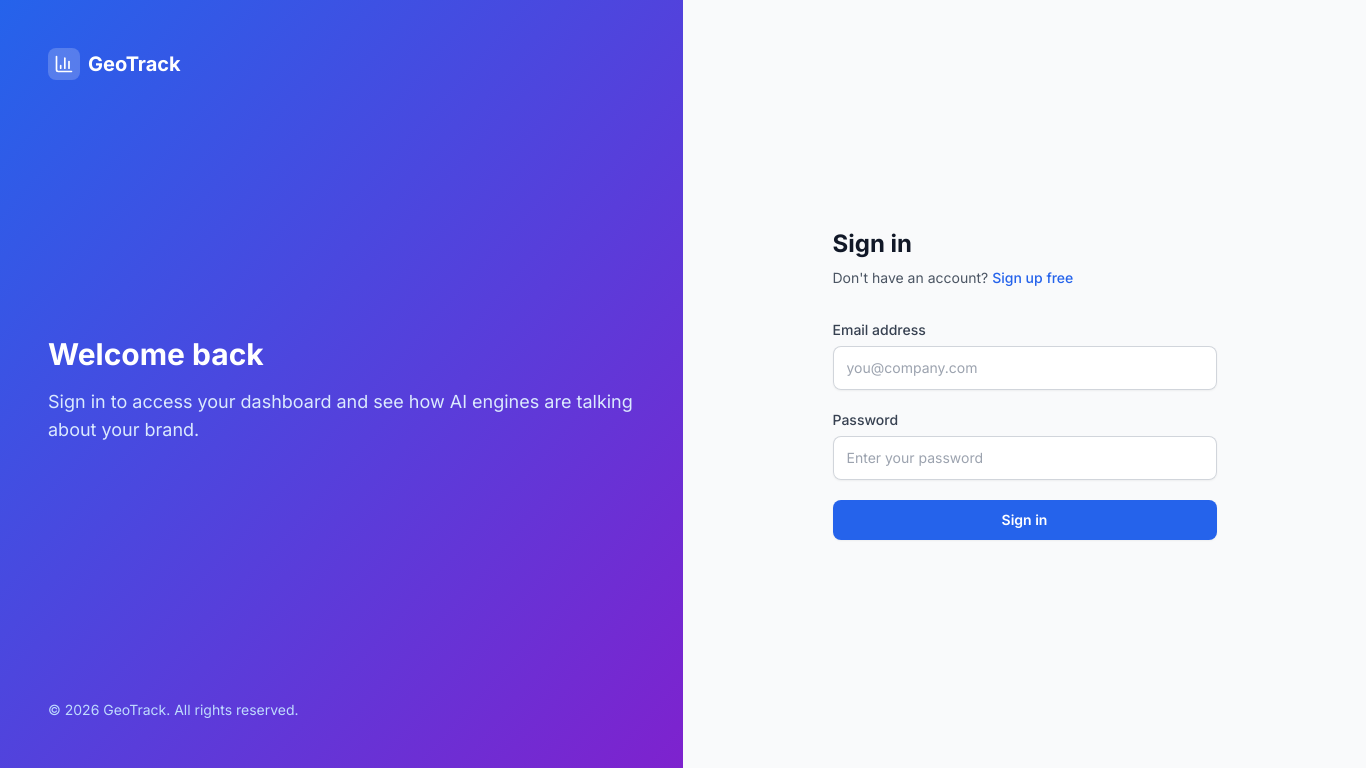
it: LoginPage › shows error on failed login
In the field labelled "Email address": coordinates (1024, 368) [832,346,1216,390], type "bad@test.com"
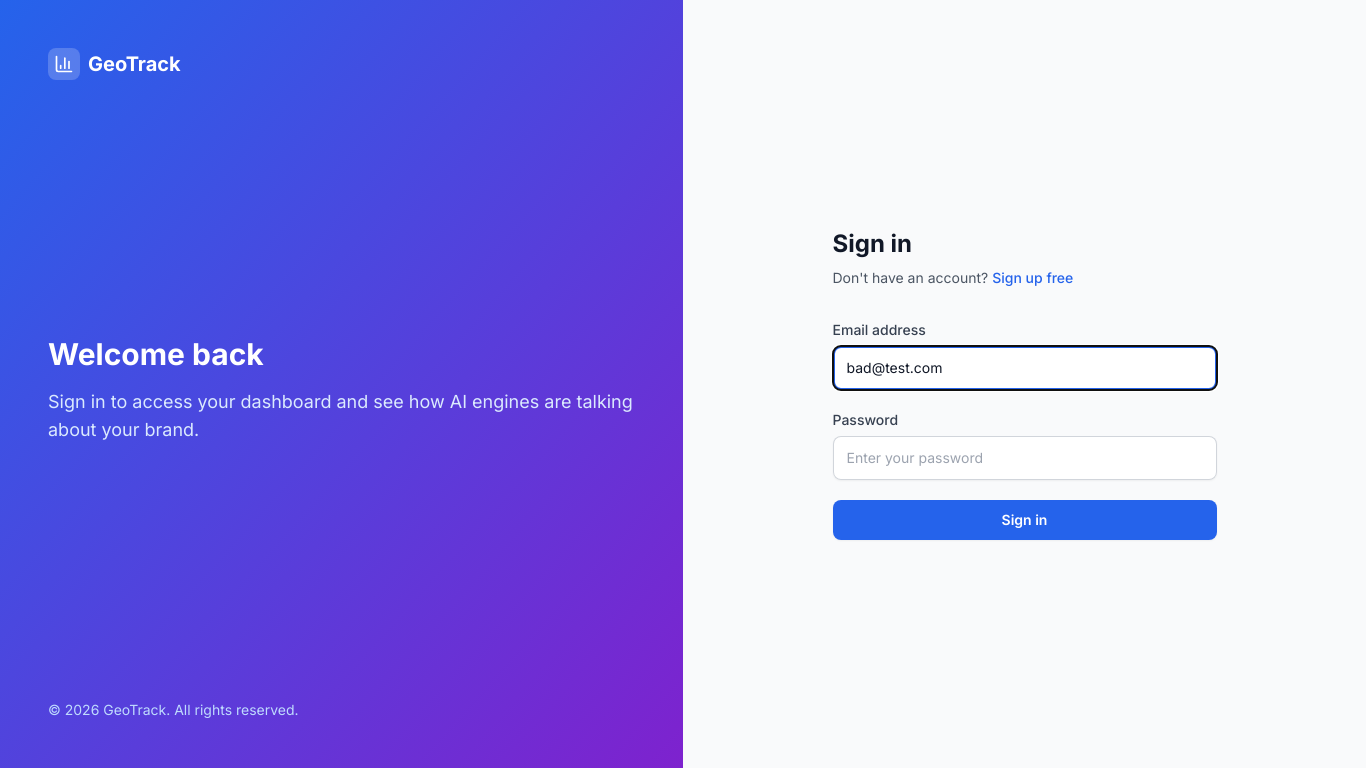
In the password field labelled "Password": coordinates (1024, 458) [832,436,1216,480], type "wrong"
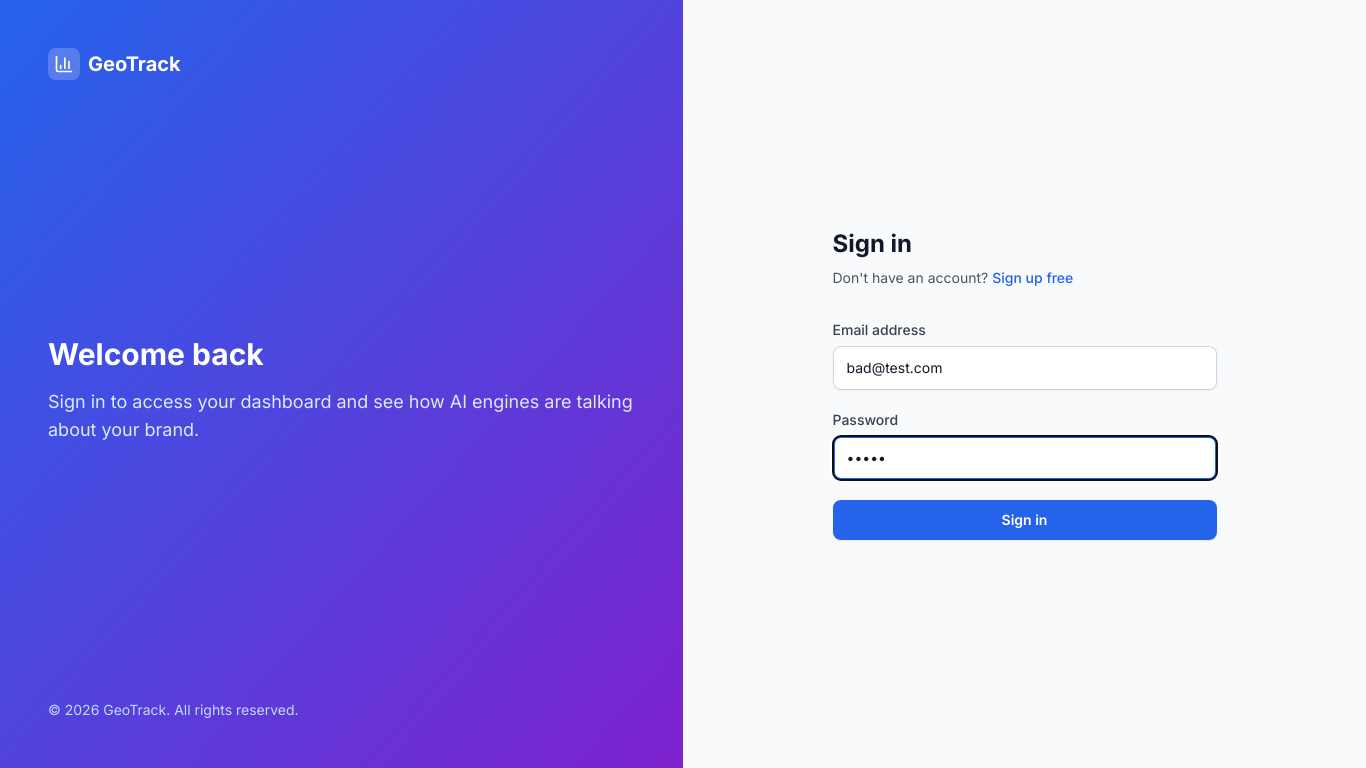
Click the button "Sign in": coordinates (1024, 520) [832,500,1216,540]
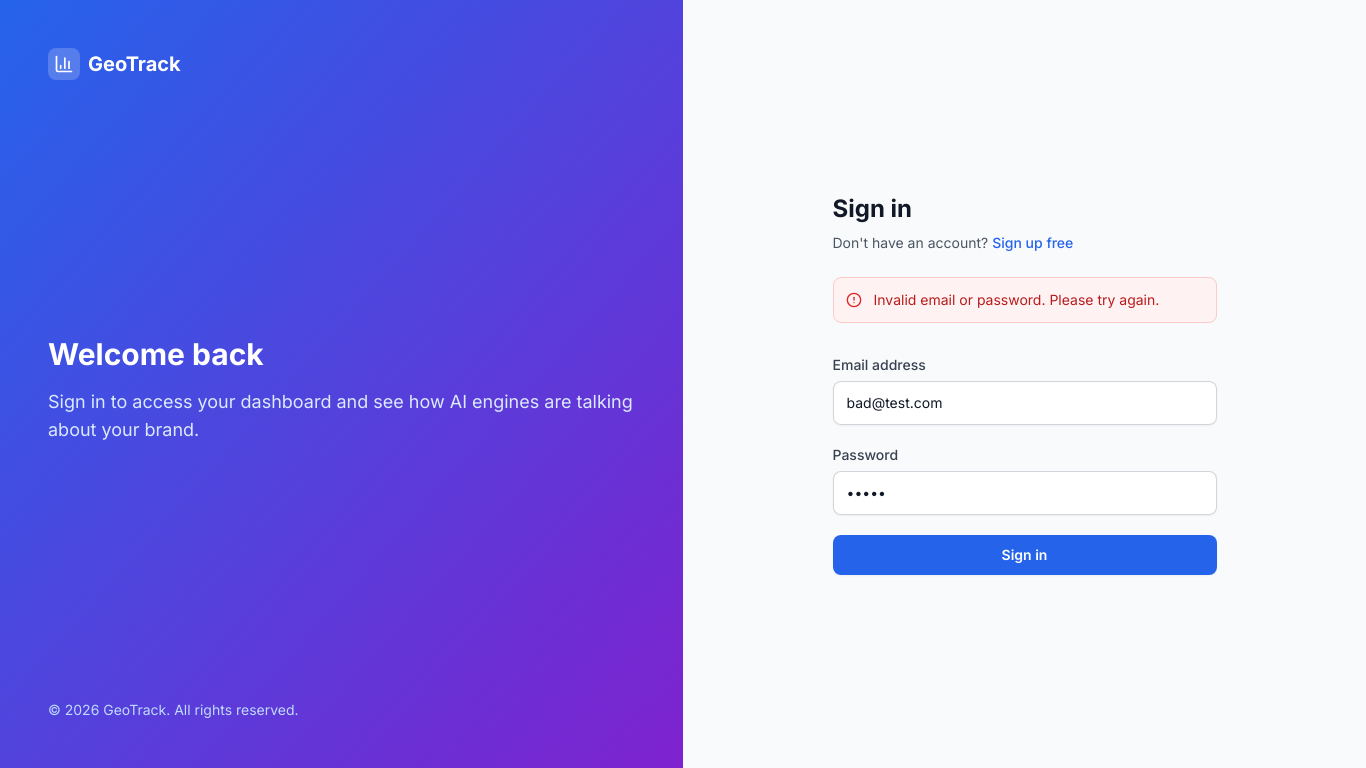
Expected: the text "Invalid email or password. Please try again." is shown, [874,290,1159,310]
